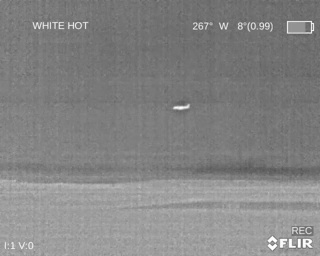AIRPLANE: (171, 103, 191, 111)
